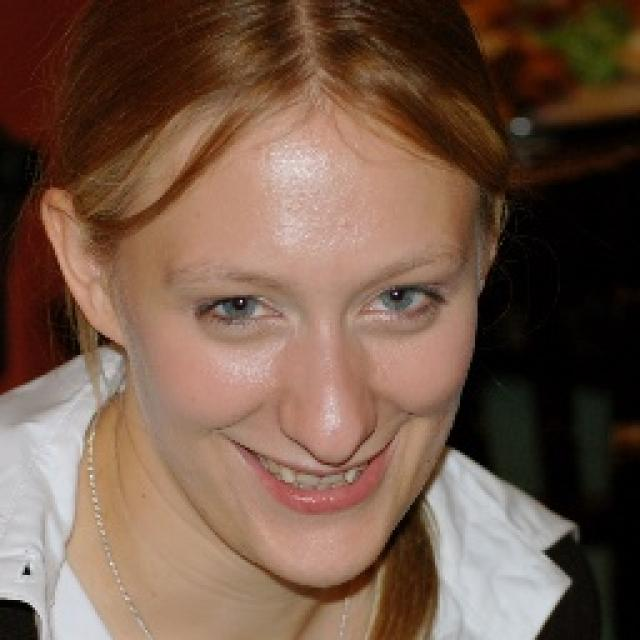earlobe: (86, 289, 130, 347)
eye: (199, 286, 288, 330), (360, 285, 445, 327)
nose: (272, 432, 375, 469)
wholeear: (40, 188, 131, 347), (469, 162, 507, 296)
